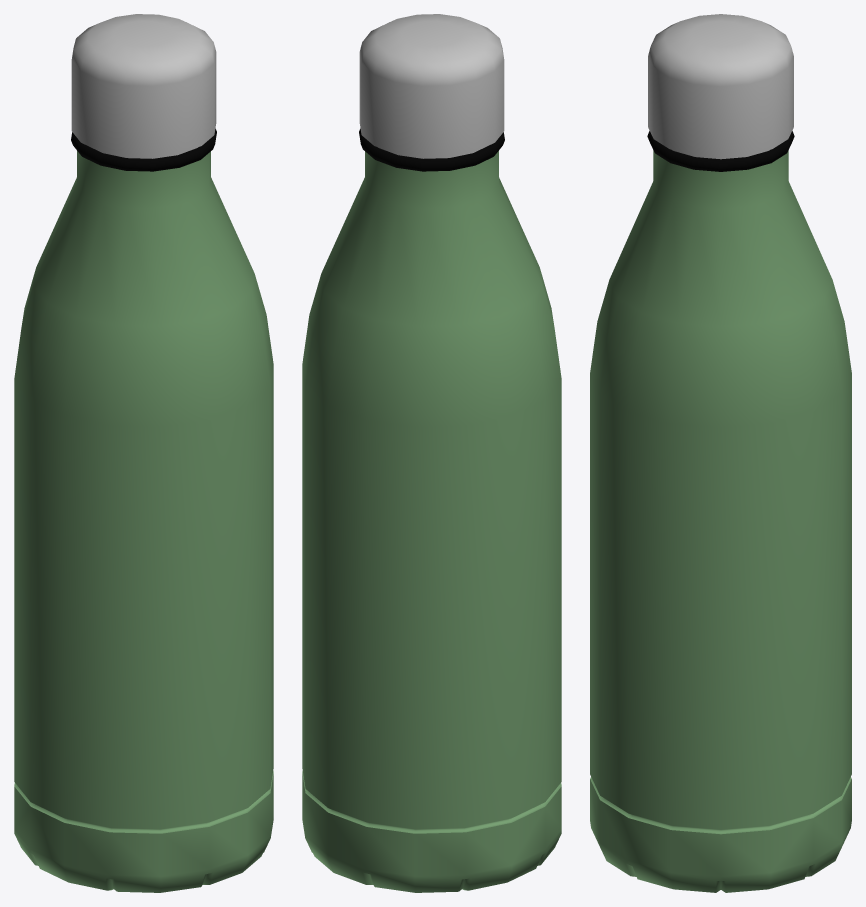
3 renders of one model, left to right at view 1: azimuth 30°, elevation 25°; view 2: azimuth 150°, elevation 25°; view 3: azimuth 270°, elevation 25°, orthographic.
Visible parts, largest first — view 1: Termo; view 2: Termo; view 3: Termo.
Boxes of the visible parts, x1,y1,x2,y2 form: Termo: [14, 14, 273, 892]; Termo: [302, 14, 561, 892]; Termo: [590, 14, 851, 892].
Bounding box in the file's own units: 0.0775 × 0.2655 × 0.0775.
